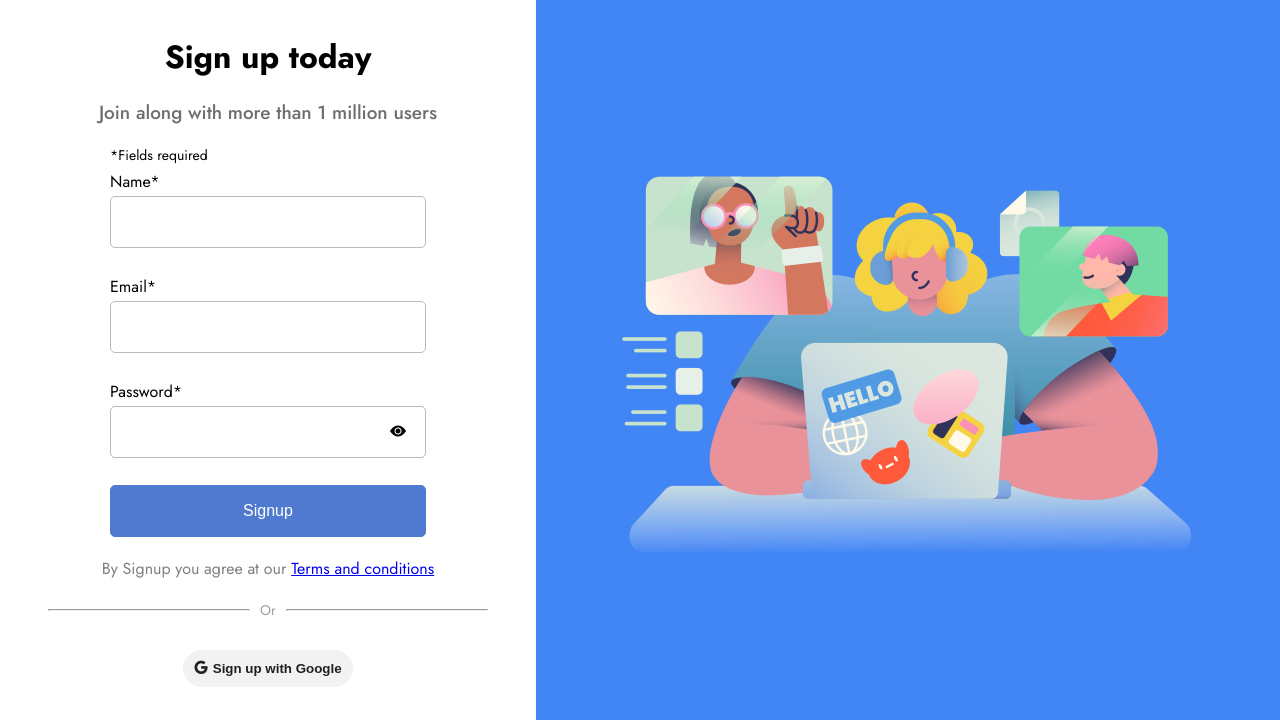
Test case: mostra gli errori se non vengono compilati i campi
Click the button with test id "signupBtn" at (268, 510), box [110,484,426,536]
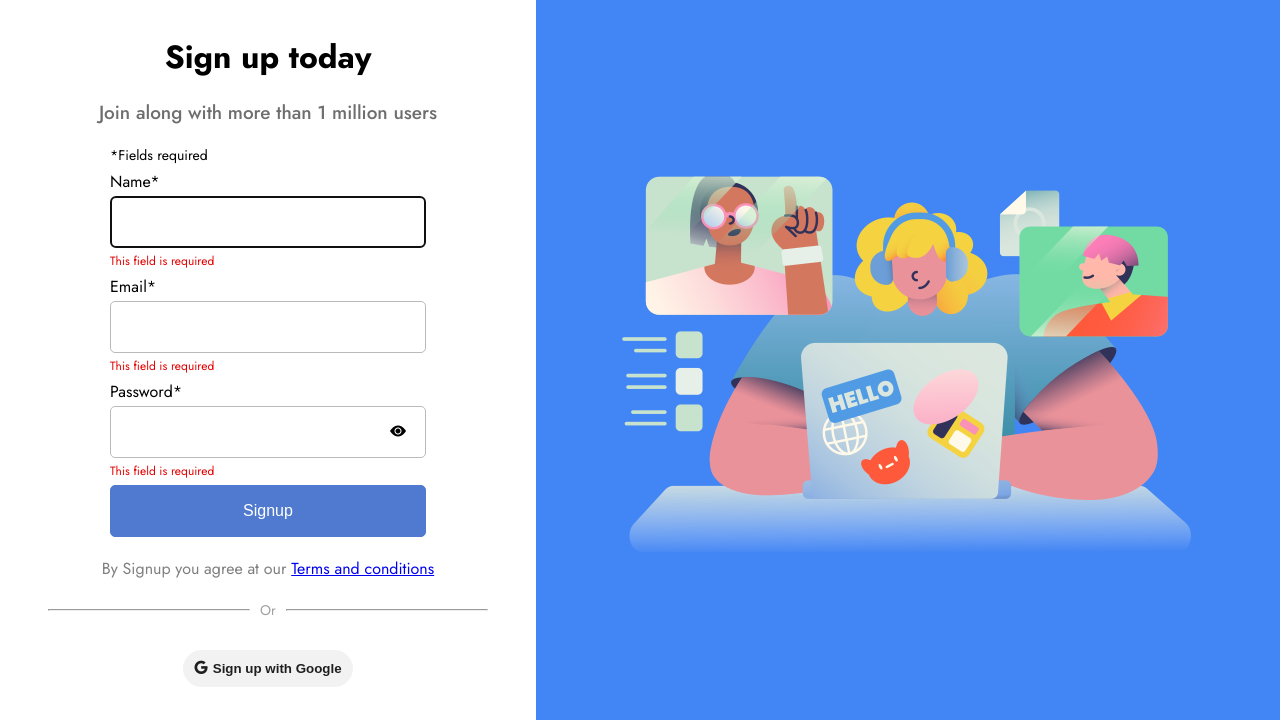
Now the text with test id "error-name" reads "This field is required", box [110,252,214,270]
Now the text with test id "error-email" reads "This field is required", box [110,356,214,374]
Now the text with test id "error-password" reads "This field is required", box [110,462,214,480]
